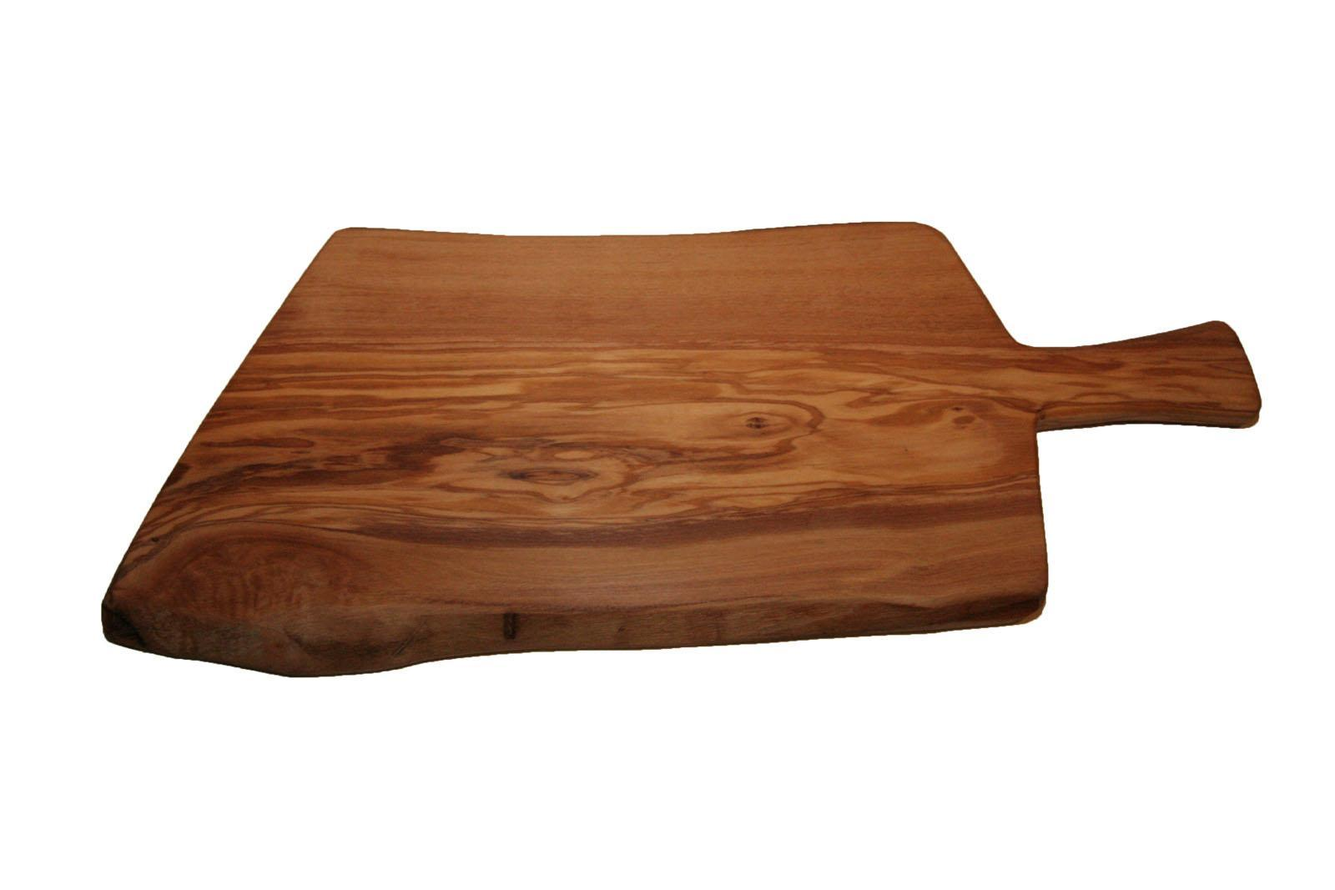gloved_hand: (94, 199, 1264, 698)
